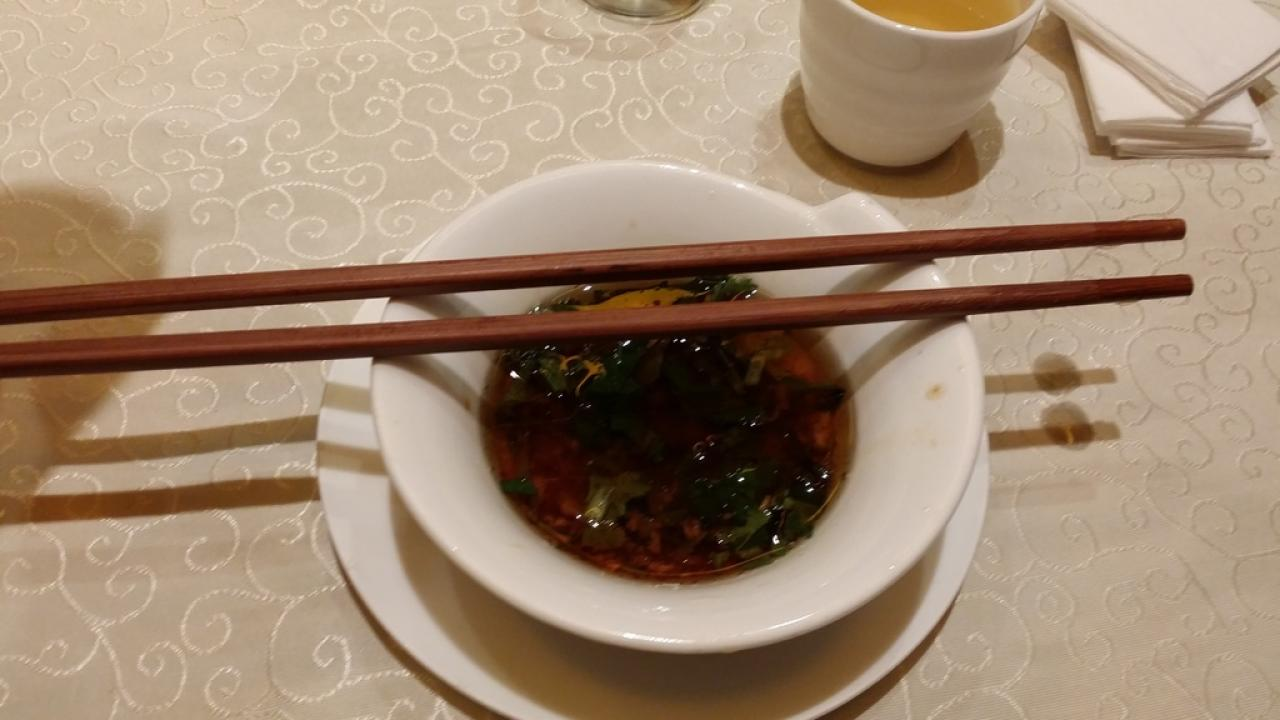chopstick: (0, 216, 1195, 381)
